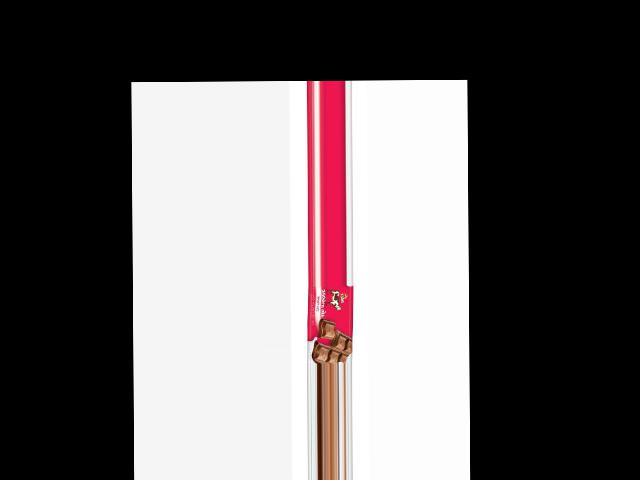chocolate: (306, 284, 352, 363)
